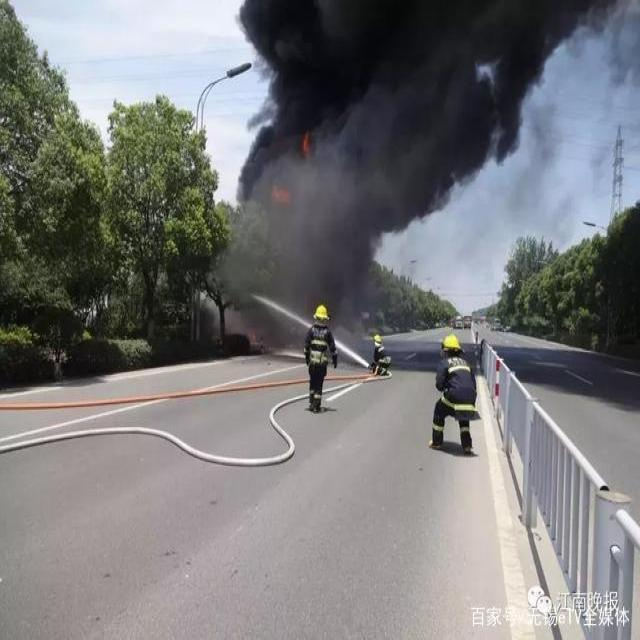Smoke: (199, 2, 640, 366)
